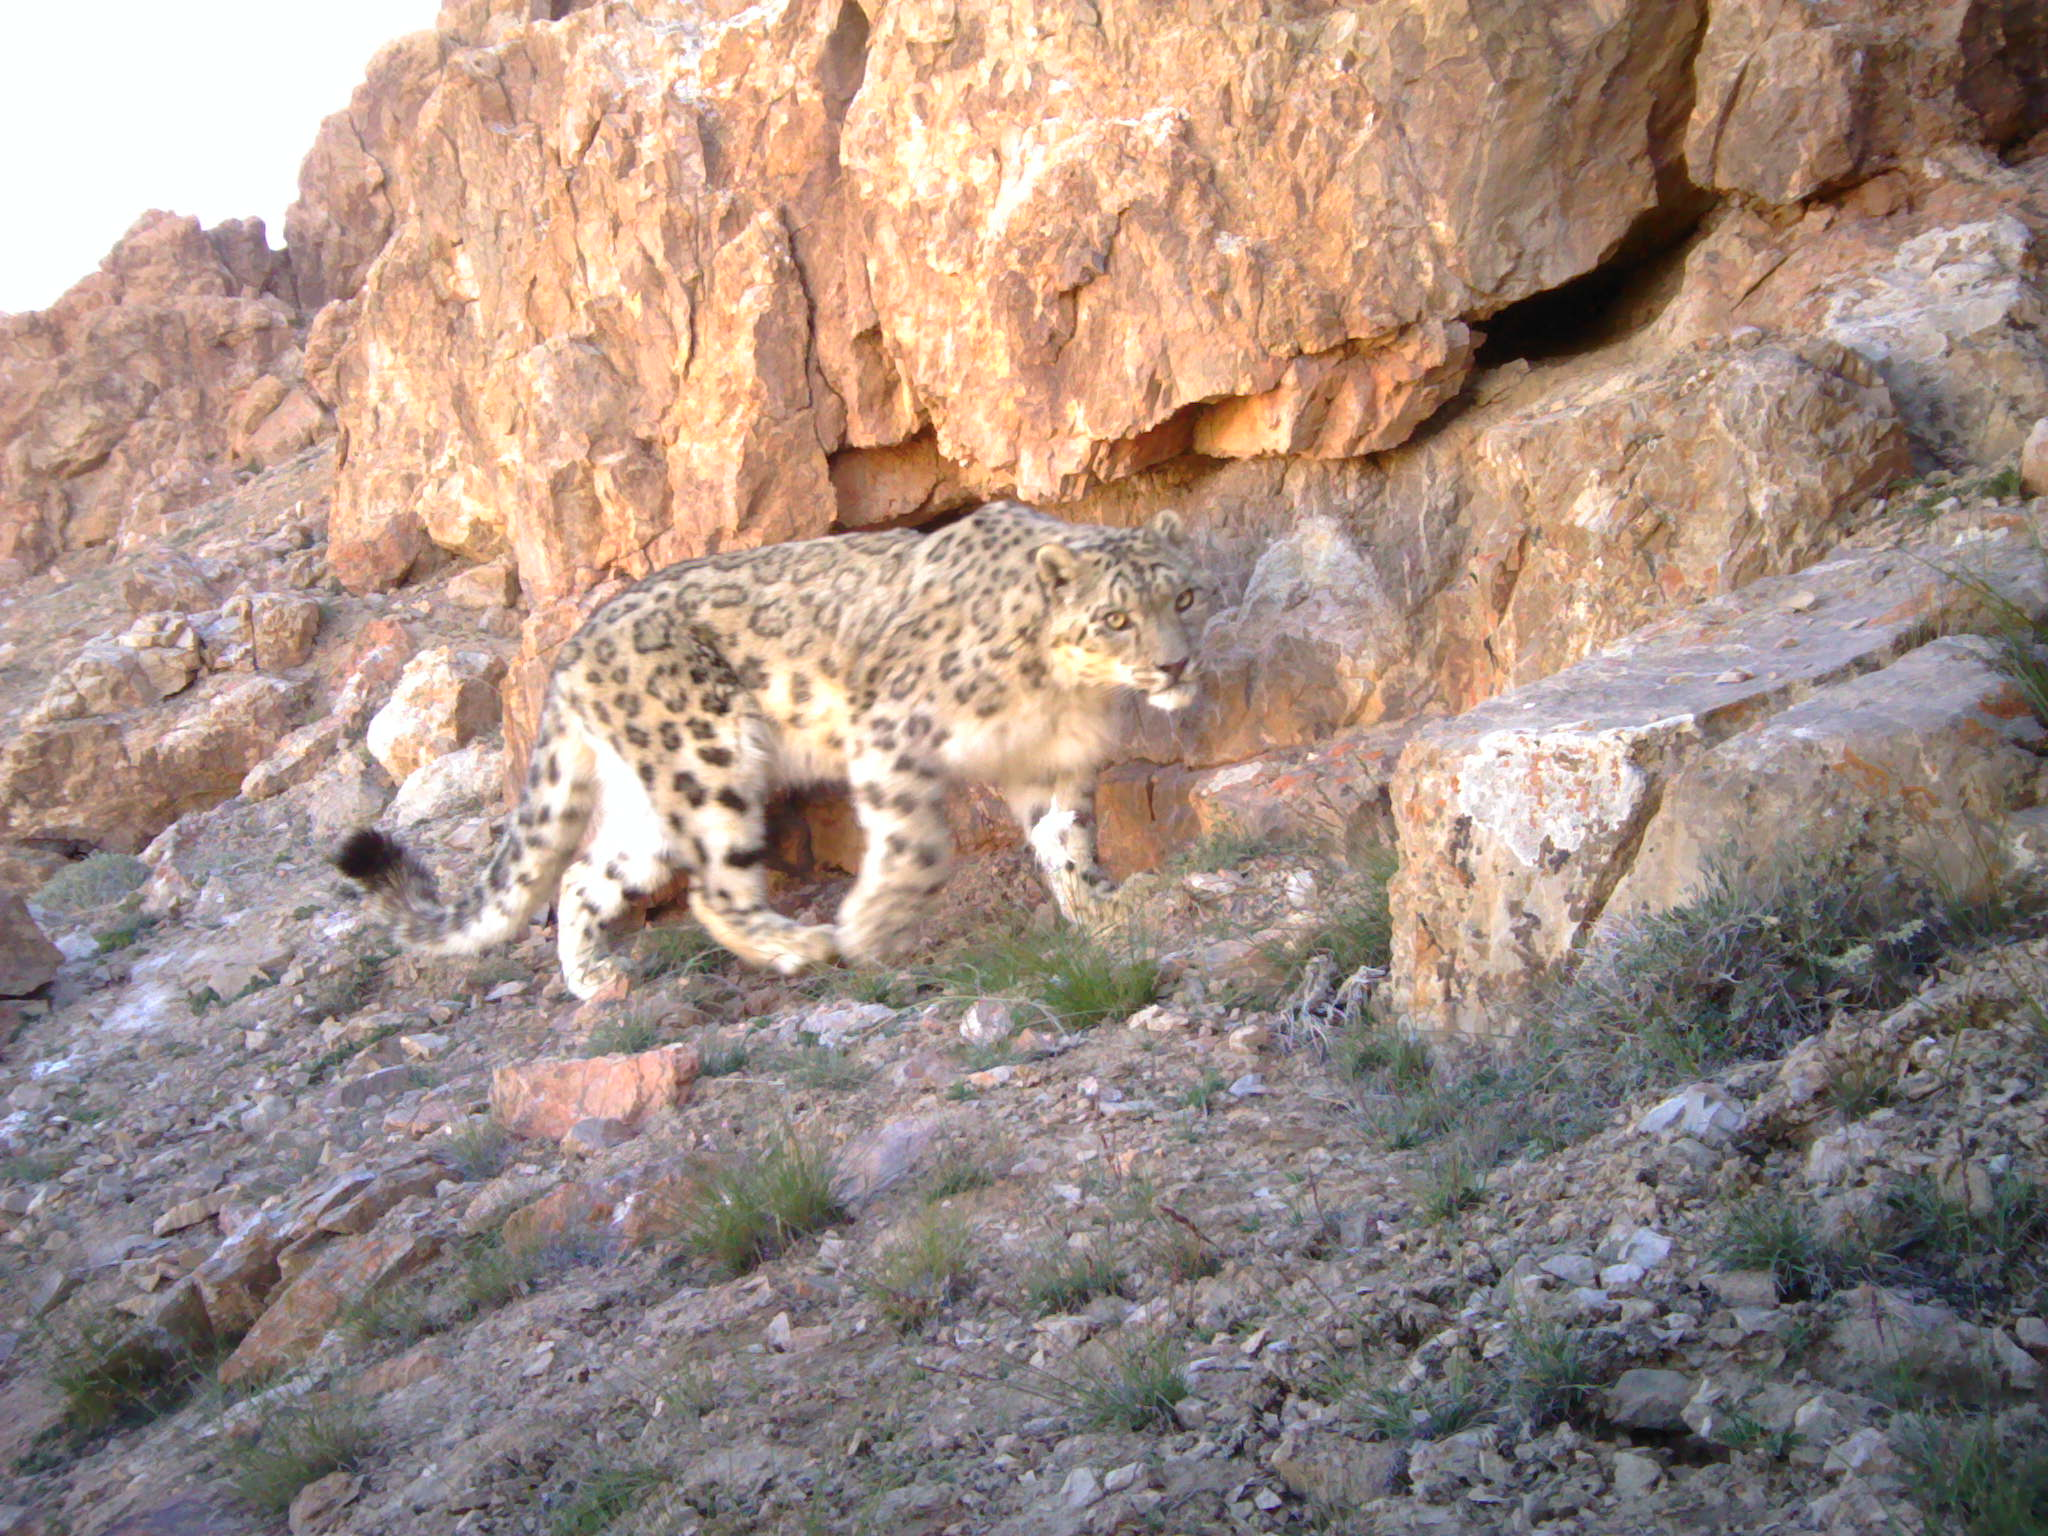Leopard: (319, 466, 1243, 1029)
